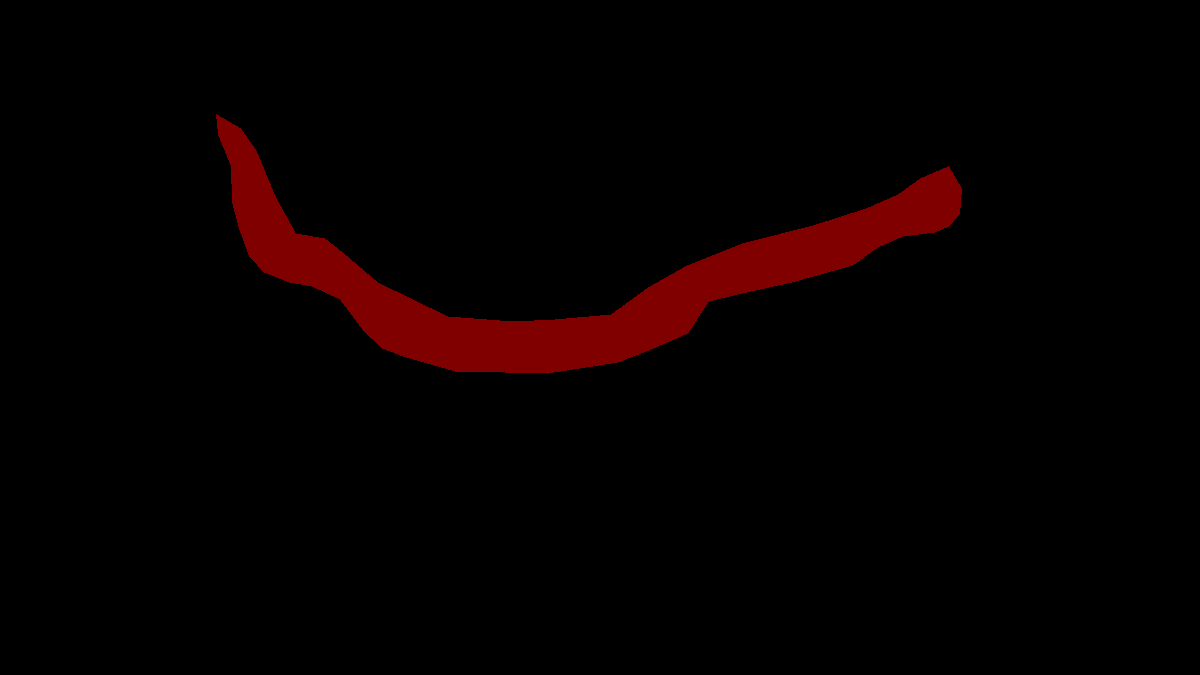fire: (216, 114, 961, 373)
